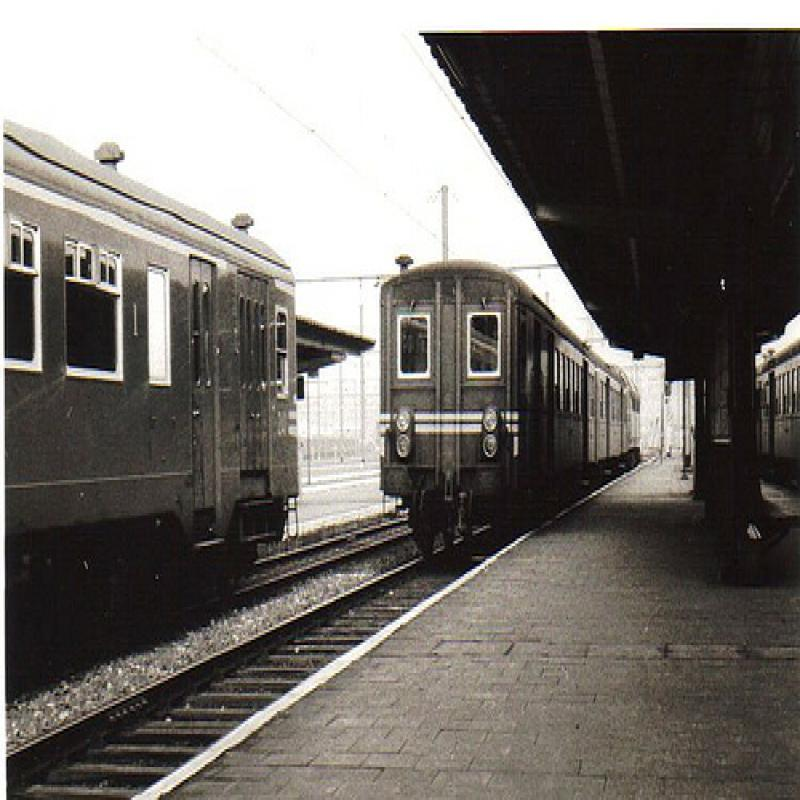train: (5, 113, 304, 684), (381, 255, 648, 562), (758, 341, 800, 494)
